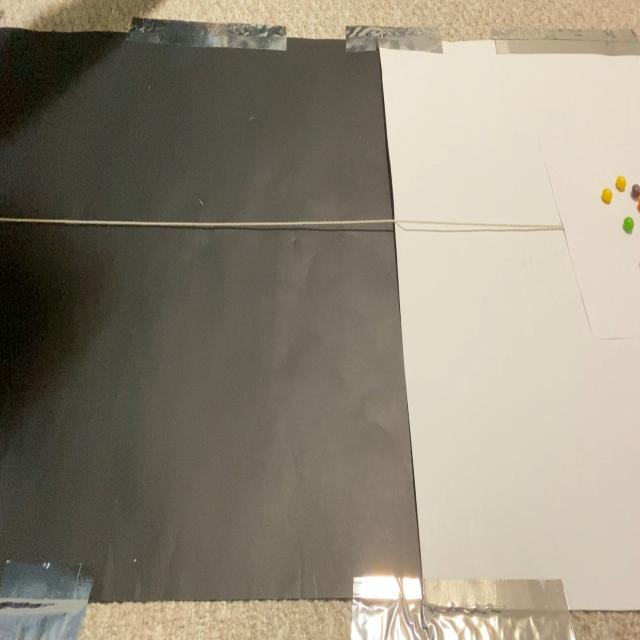smartie: (617, 174, 628, 191), (624, 216, 635, 233), (603, 187, 614, 203), (632, 182, 640, 199)
